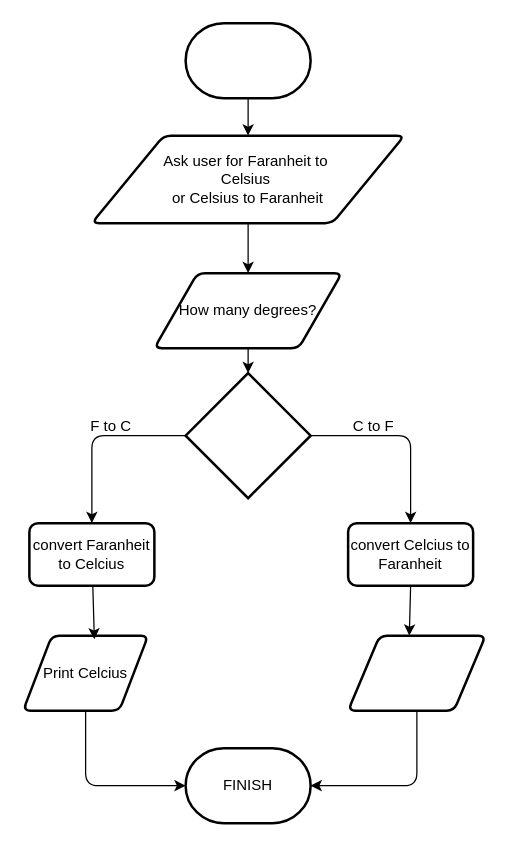
Some shapes in this 508 by 845 pixel diagram are drawn without their labels. The box of each missing label's shape, as (x1, y1, x2, y2) in pixels:
Faranheit or Celcius?: (184, 371, 311, 499)
Print Faranheit: (346, 634, 486, 711)
START: (184, 21, 311, 99)
